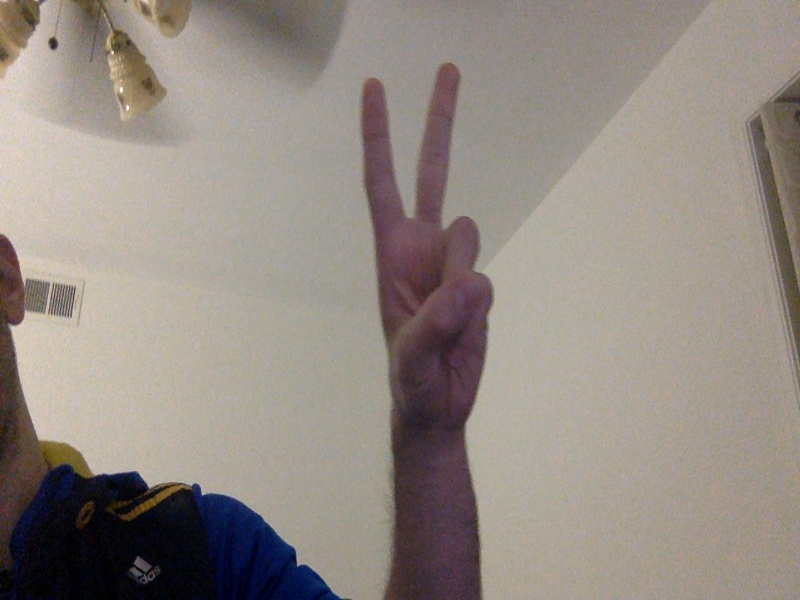2-hand: (360, 63, 494, 424)
